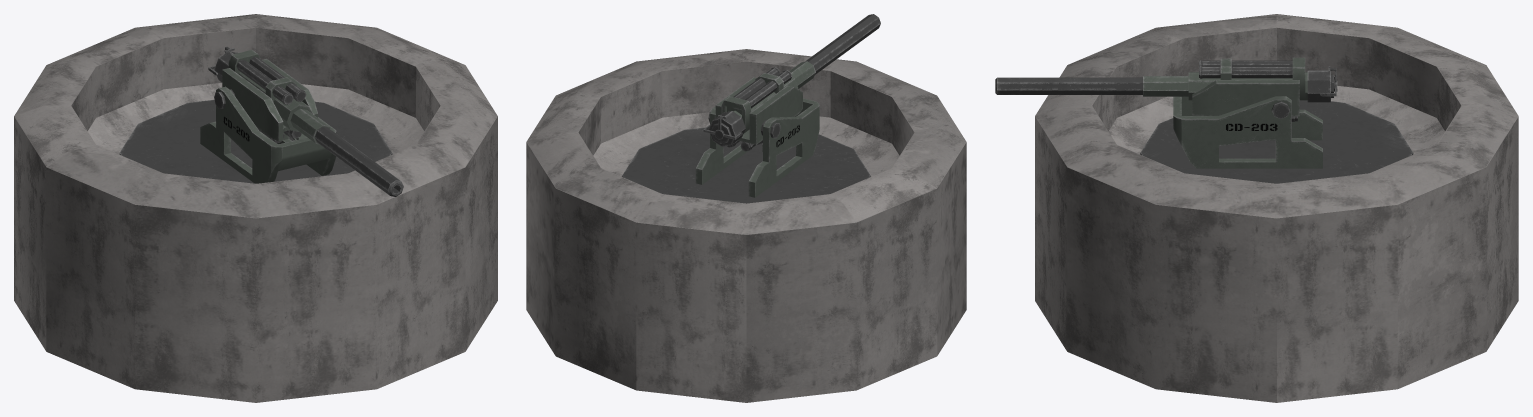
File: Emplacement_203mmCG.fbx
The picture shows the model from 3 angles, left to right: view 1: azimuth 30°, elevation 25°; view 2: azimuth 150°, elevation 25°; view 3: azimuth 270°, elevation 25°; orthographic projection. The views are drawn at different scales.
Parts seen in each view (by area): view 1: concrete, traverse, gun, barrel; view 2: concrete, traverse, gun, barrel; view 3: concrete, traverse, gun, barrel.
Part boxes in pixels (x1,y1,x2,y2): concrete: (14, 14, 497, 402); traverse: (119, 86, 392, 183); gun: (208, 46, 330, 144); barrel: (315, 127, 403, 196); concrete: (526, 49, 966, 402); traverse: (622, 98, 870, 203); gun: (703, 61, 815, 151); barrel: (805, 14, 880, 74); concrete: (1035, 14, 1518, 402); traverse: (1140, 96, 1413, 183); gun: (1143, 57, 1337, 121); barrel: (995, 77, 1142, 94).
Size of the model in its own units: 1800 by 977 by 1948.
Materials: 2 (2 with a texture image).
